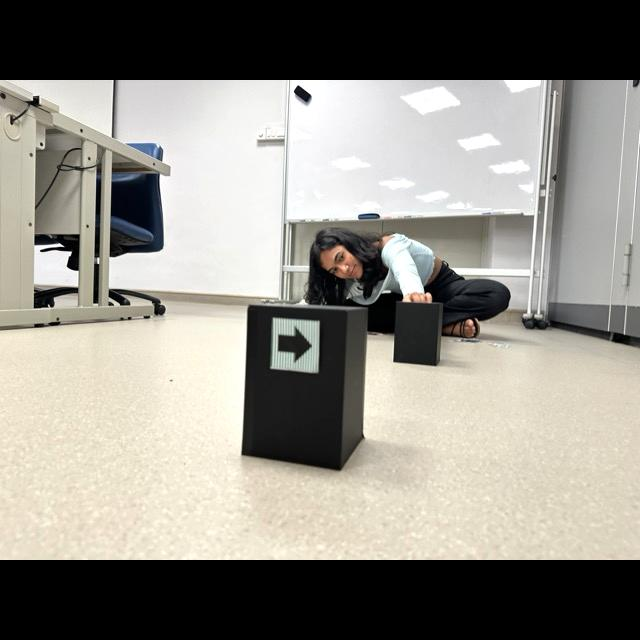RIGHT: (278, 327, 312, 362)
